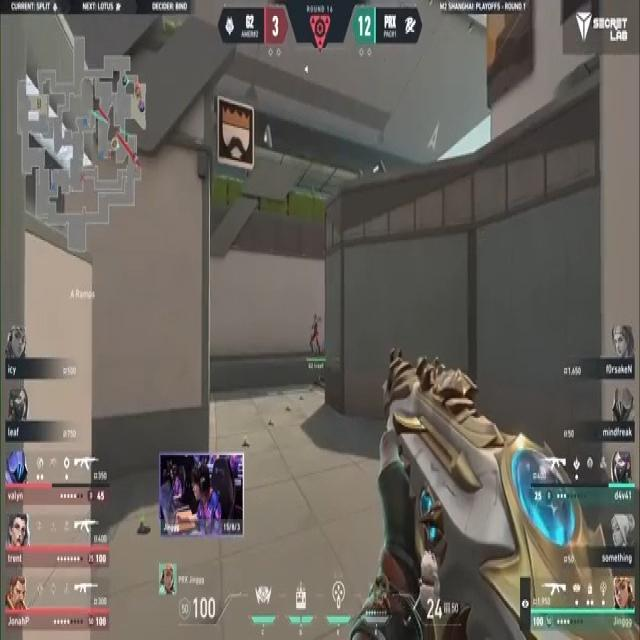enemy: (308, 312, 324, 358)
